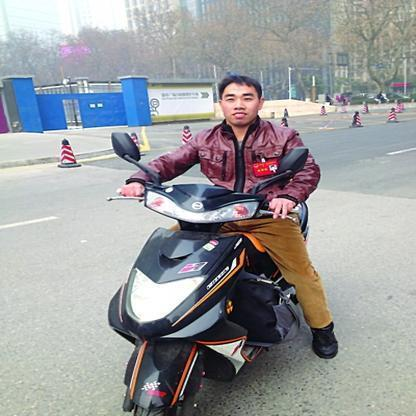target: (102, 74, 338, 405)
